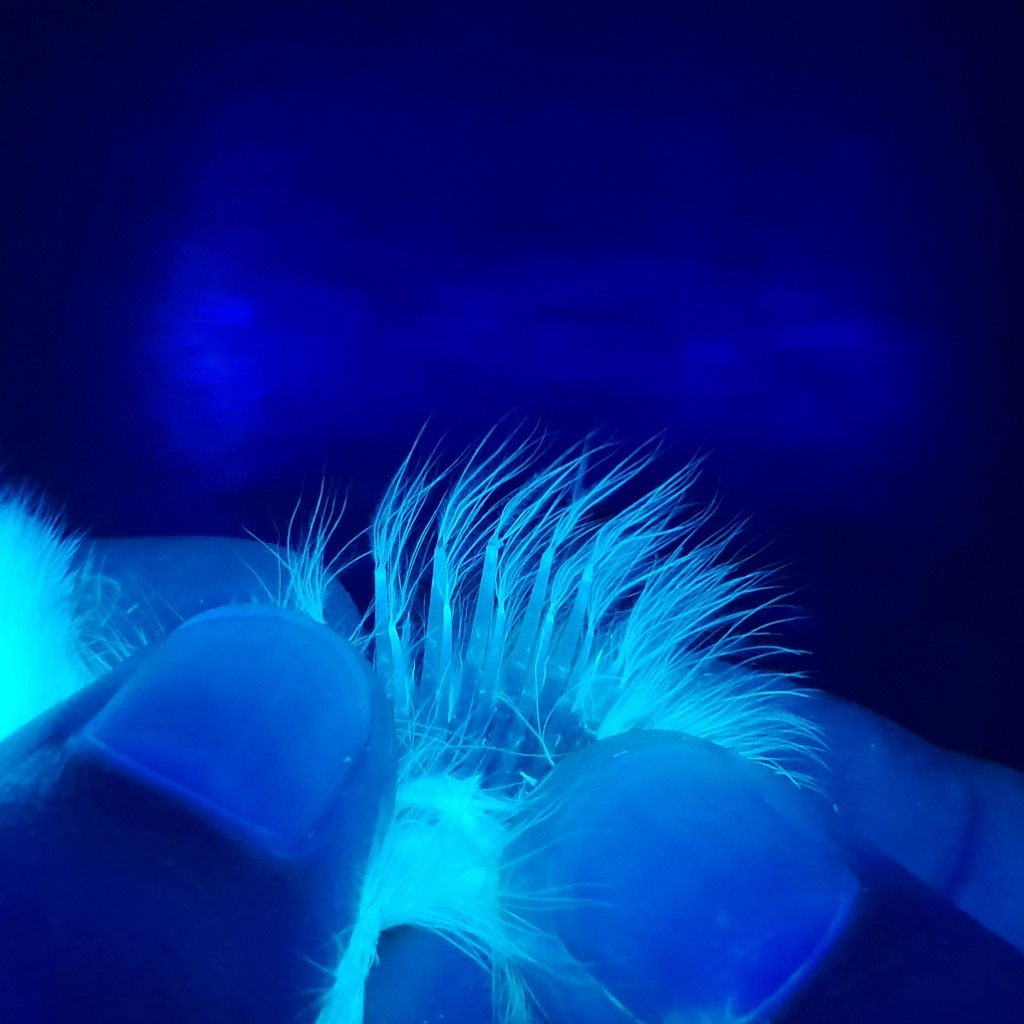female: (359, 526, 658, 815)
